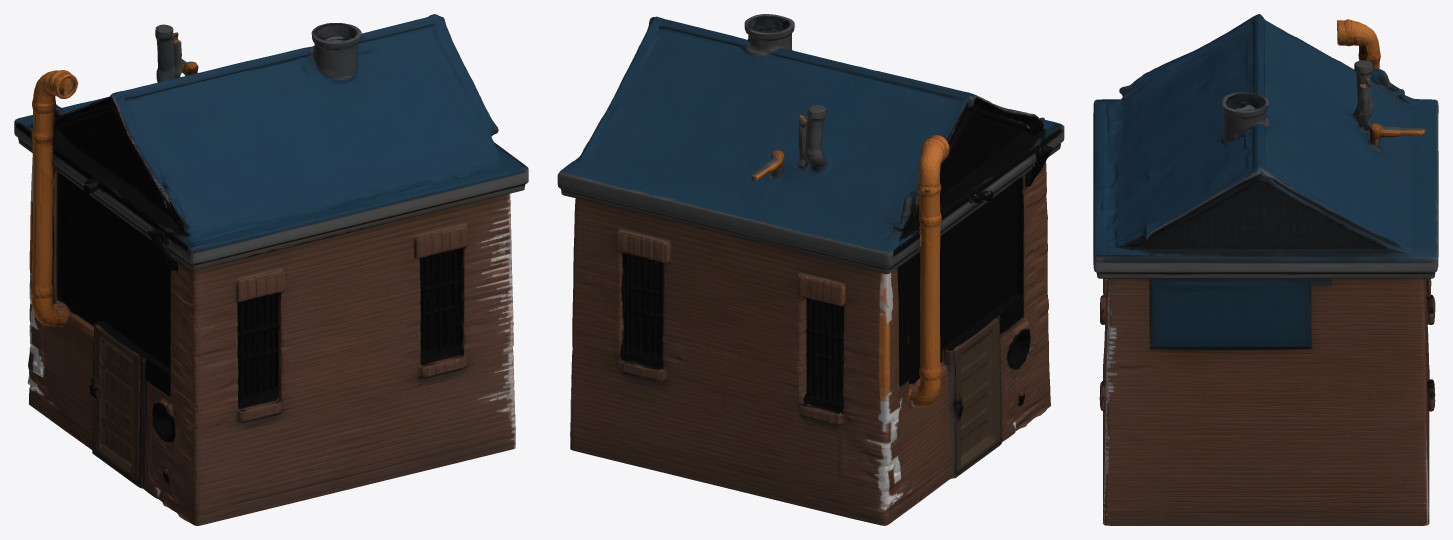
The model's file is building_magitek.glb.
The picture shows the model from 3 angles, left to right: view 1: azimuth 30°, elevation 25°; view 2: azimuth 150°, elevation 25°; view 3: azimuth 270°, elevation 25°; orthographic projection. The views are drawn at different scales.
Parts seen in each view (by area): view 1: textured_mesh.obj; view 2: textured_mesh.obj; view 3: textured_mesh.obj.
Boxes of the visible parts, bbox=[...] form: textured_mesh.obj: bbox=[14, 14, 528, 525]; textured_mesh.obj: bbox=[557, 14, 1064, 525]; textured_mesh.obj: bbox=[1093, 14, 1438, 525].
Size of the model in its own units: 1.9 by 1.99 by 1.66.
1 material, 1 textured.
